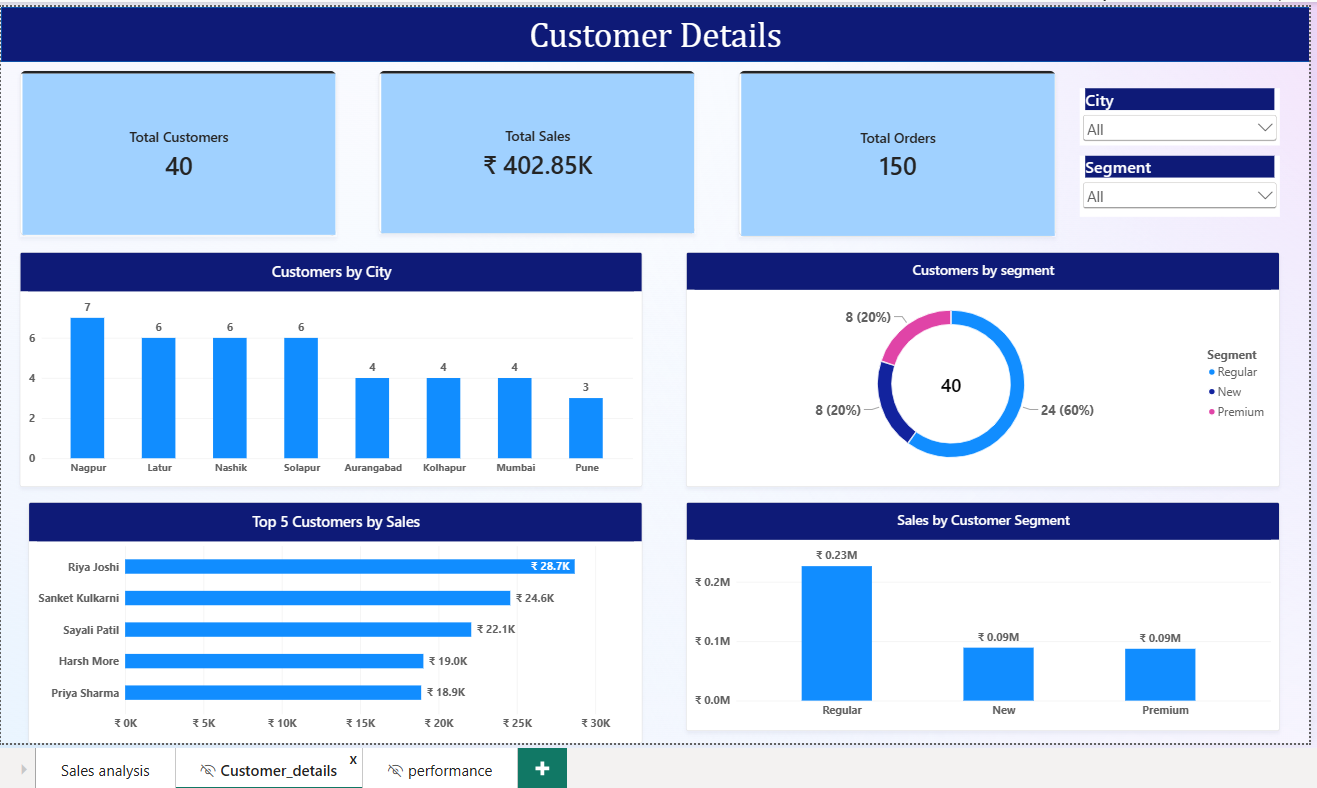

This screenshot's page, from the dashboard's own definition file:
{"tool":"powerbi","page":{"name":"Customer_details","canvas":[1920,1080],"ordinal":1},"visuals":[{"type":"textbox","box":[9.2,0,1911.3,62.4],"z":0},{"type":"cardVisual","fields":{"Data":["Measure table.total customer"]},"box":[27.5,93.5,465.9,244],"z":1},{"type":"cardVisual","fields":{"Data":["Measure table.total sales"]},"box":[553.9,93.5,465.9,240.3],"z":2},{"type":"cardVisual","fields":{"Data":["Measure table.total orders"]},"box":[1082.2,93.5,466,244],"z":3},{"type":"clusteredColumnChart","title":"Customers by City","fields":{"Category":["customers.City"],"Y":["CountNonNull(customers.CustomerID)"]},"box":[27.5,359.5,913.5,344.8],"z":4},{"type":"donutChart","title":"Customers by segment","fields":{"Category":["customers.Segment"],"Y":["CountNonNull(customers.CustomerID)"]},"box":[1005.2,359.5,871.3,344.8],"z":5},{"type":"clusteredBarChart","title":"Top 5 Customers by Sales","fields":{"Category":["customers.CustomerName"],"Y":["Measure table.total sales"]},"box":[40.4,726.4,900.6,354],"z":6},{"type":"slicer","fields":{"Values":["customers.Segment"]},"box":[1583,218.3,293.5,89.9],"z":7},{"type":"slicer","fields":{"Values":["customers.City"]},"box":[1583,119.2,293.5,84.4],"z":8},{"type":"clusteredColumnChart","title":"Sales by Customer Segment","fields":{"Category":["customers.Segment"],"Y":["Measure table.total sales"]},"box":[1005.2,726.4,871.3,335.7],"z":10},{"type":"shape","box":[0,0,1920.5,80.7],"z":11}]}

Visuals, with their boxes on the page's 1920x1080 design canvas (x1, y1, x2, y2). These are canvas units, not pixel positions in the 1317x788 screenshot, which may show the page scaled, cropped or inside an application window:
textbox: bbox=(9, 0, 1920, 62)
cardVisual - Measure table.total customer: bbox=(28, 94, 493, 338)
cardVisual - Measure table.total sales: bbox=(554, 94, 1020, 334)
cardVisual - Measure table.total orders: bbox=(1082, 94, 1548, 338)
"Customers by City" clusteredColumnChart: bbox=(28, 360, 941, 704)
"Customers by segment" donutChart: bbox=(1005, 360, 1876, 704)
"Top 5 Customers by Sales" clusteredBarChart: bbox=(40, 726, 941, 1080)
slicer - customers.Segment: bbox=(1583, 218, 1876, 308)
slicer - customers.City: bbox=(1583, 119, 1876, 204)
"Sales by Customer Segment" clusteredColumnChart: bbox=(1005, 726, 1876, 1062)
shape: bbox=(0, 0, 1920, 81)
